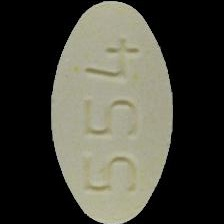64725-0554: (0, 0, 224, 224)
